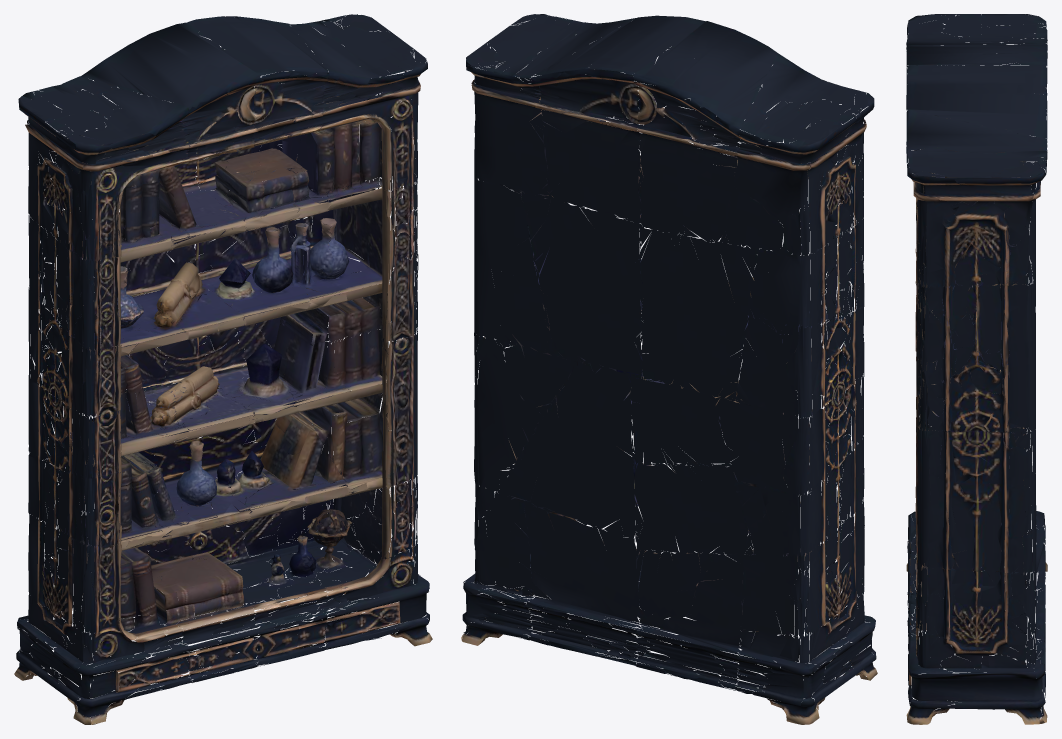
The model's file is biblioteca-arcana.glb.
3 renders of one model, left to right at view 1: azimuth 30°, elevation 25°; view 2: azimuth 150°, elevation 25°; view 3: azimuth 270°, elevation 25°, orthographic. The views are drawn at different scales.
Visible parts, largest first — view 1: tripo_node_5936ade5-9396-451c-9492-6e9ab9264b35; view 2: tripo_node_5936ade5-9396-451c-9492-6e9ab9264b35; view 3: tripo_node_5936ade5-9396-451c-9492-6e9ab9264b35.
Boxes of the visible parts, bbox=[...] form: tripo_node_5936ade5-9396-451c-9492-6e9ab9264b35: bbox=[14, 14, 432, 724]; tripo_node_5936ade5-9396-451c-9492-6e9ab9264b35: bbox=[461, 14, 877, 724]; tripo_node_5936ade5-9396-451c-9492-6e9ab9264b35: bbox=[906, 14, 1047, 724].
Bounding box in the file's own units: 0.5959 × 0.9813 × 0.2176.
1 material, 1 textured.
